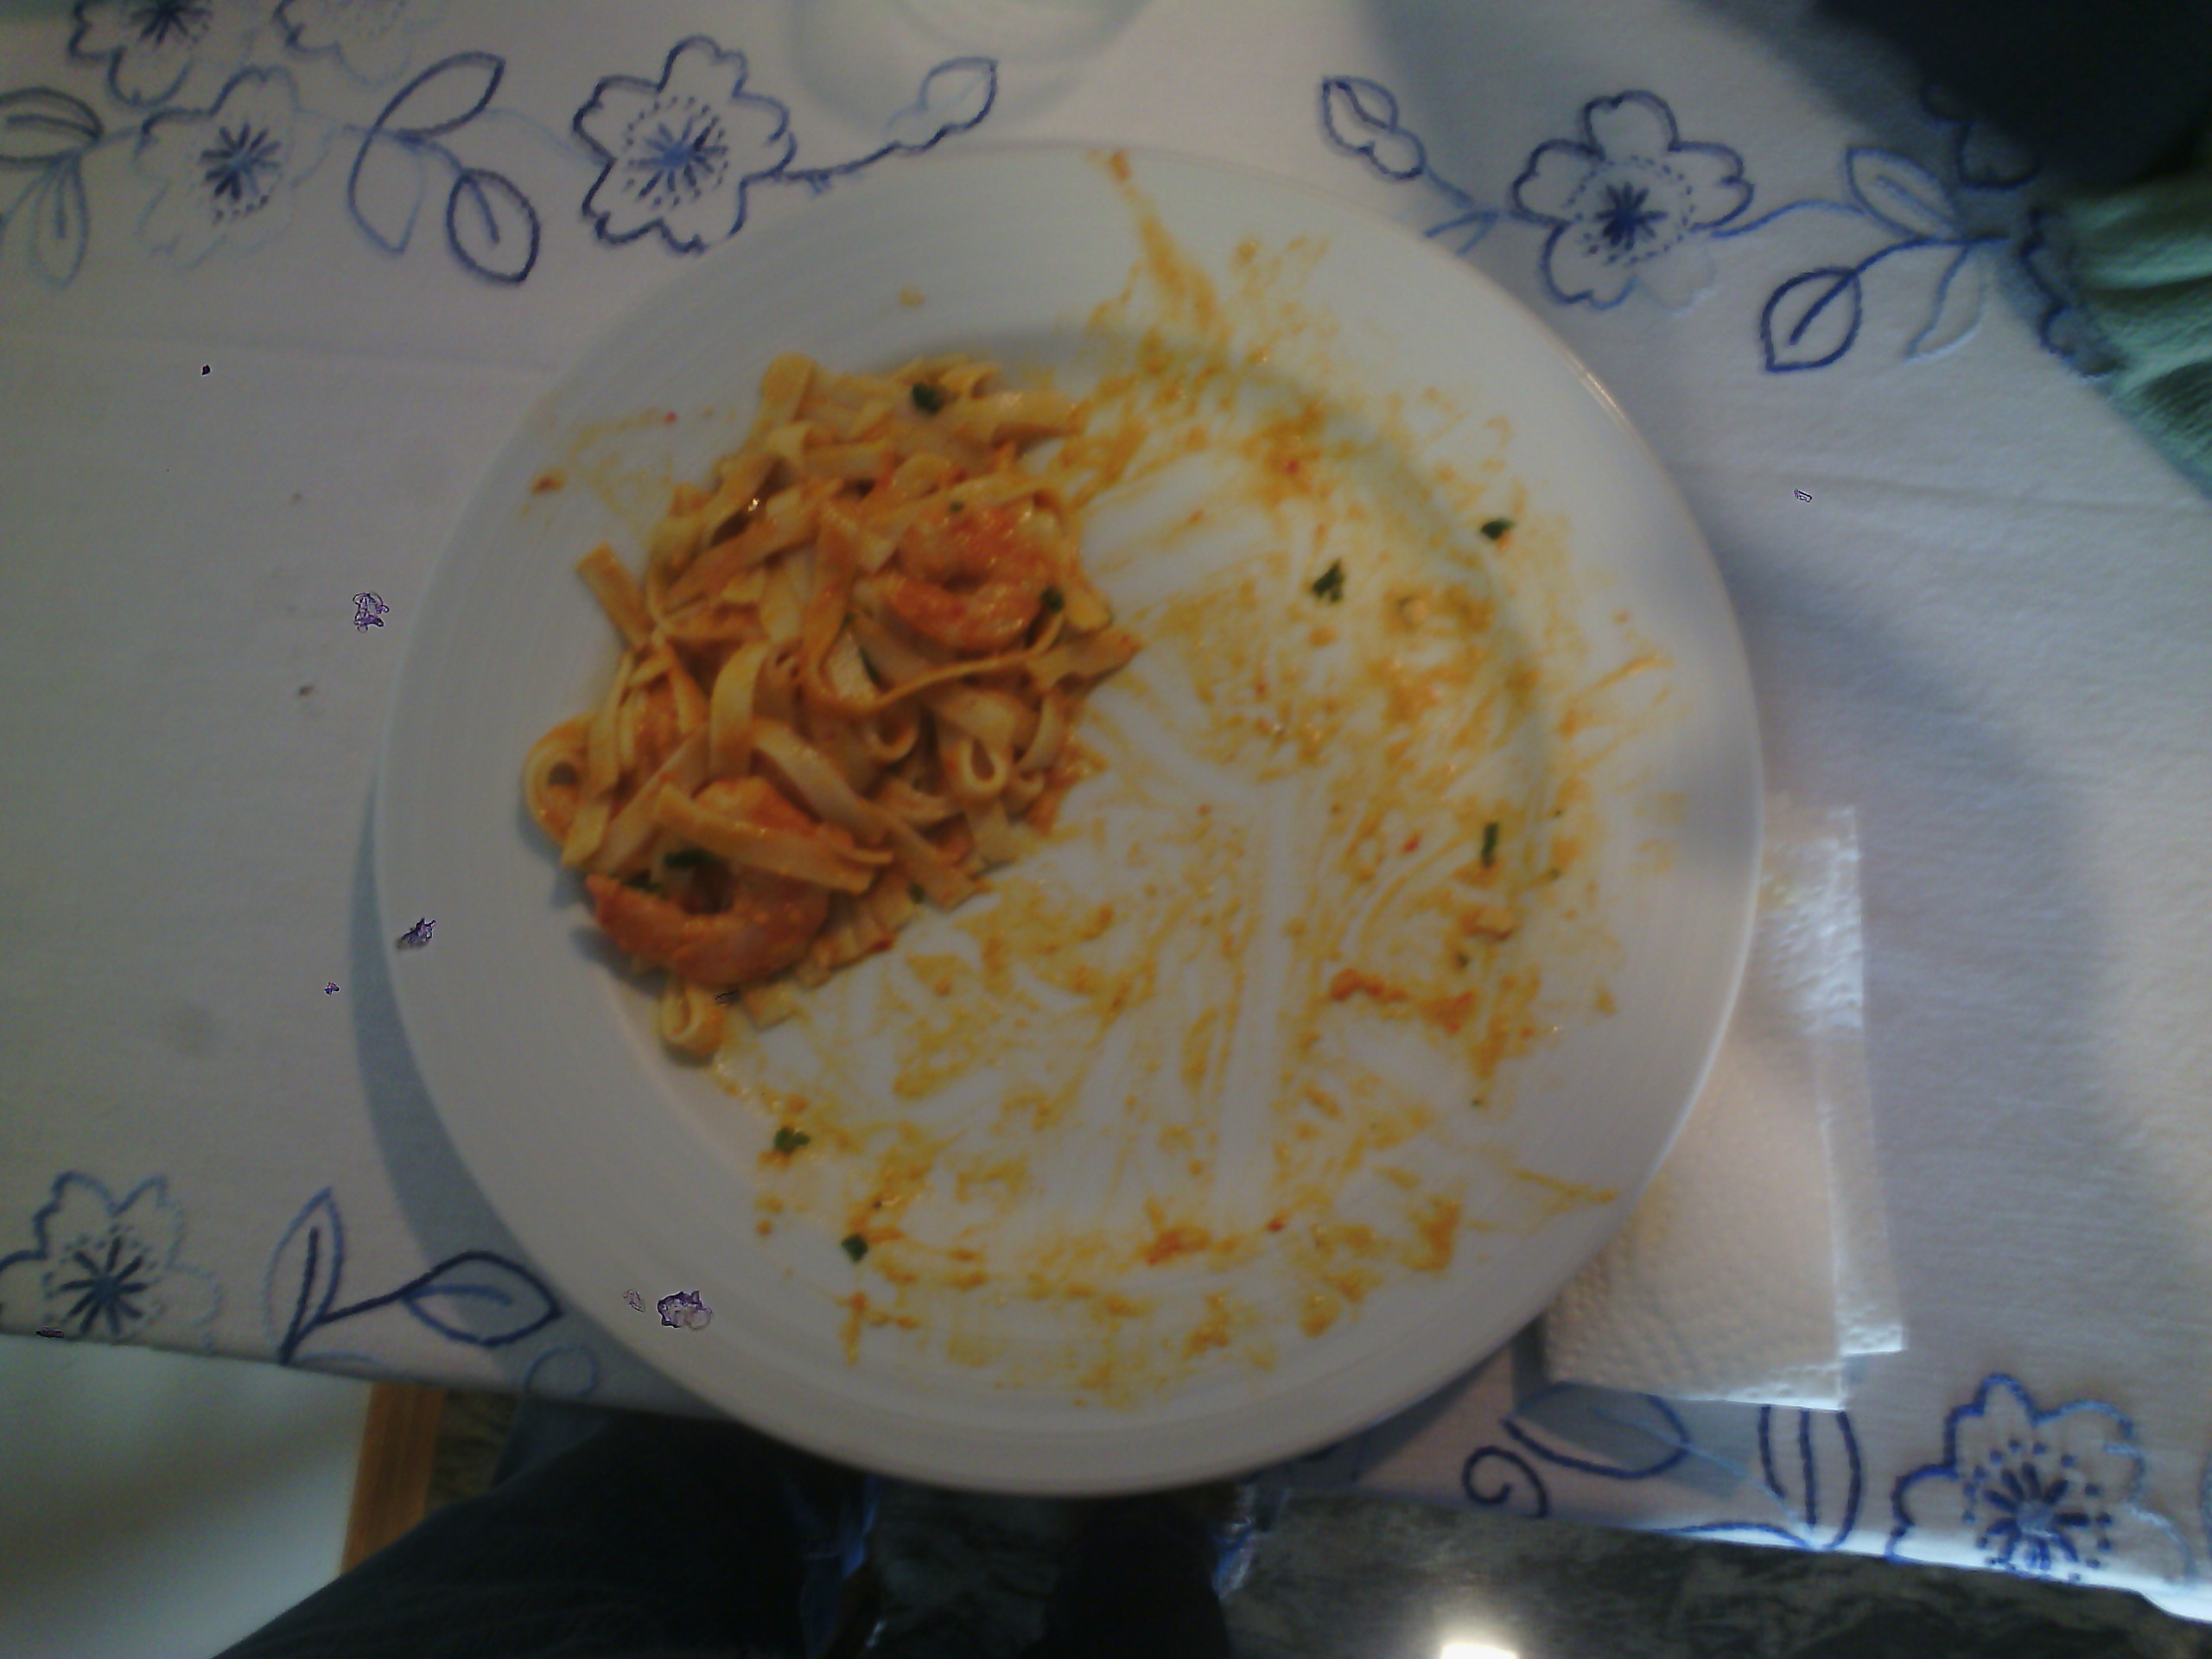21-40: (369, 132, 1759, 1511)
